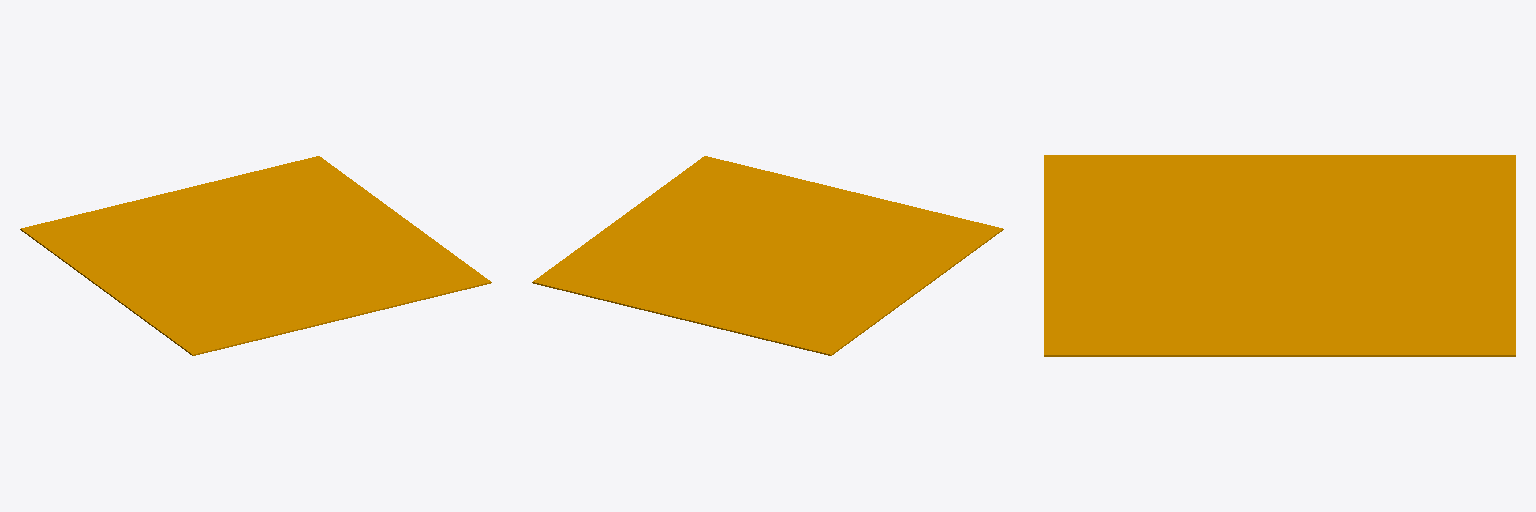
The robot description file, URDF, robot "bowl":
<?xml version="1.0" ?>
<robot name="bowl">
  <link name="bowl">
    <visual>
      <origin xyz="0 0 0"/>
      <geometry>
        <mesh filename="table.obj" scale="100 100 1"/>
      </geometry>
    </visual>
    <!-- <collision>
      <geometry>
        <mesh filename="table.obj"/>
      </geometry>
    </collision> -->
  </link>
</robot>
        

--- Facts derived from the render (not from the file) ---
Views: 3 orthographic renders of the robot side by side, from view 1: azimuth 30°, elevation 25°; view 2: azimuth 150°, elevation 25°; view 3: azimuth 270°, elevation 25°.
Robot: bowl — 1 links, 0 joints (none); root link bowl; default pose: all joints at 0.
Links seen in each view (by area): view 1: bowl; view 2: bowl; view 3: bowl.
Link boxes in pixels (box(x1,y1,x2,y2)): bowl: box(20, 156, 491, 355); bowl: box(532, 156, 1003, 355); bowl: box(1044, 155, 1515, 356).
Bounding box of the posed robot: 50 × 50 × 0.234 m (x, y, z).
Meshes: 1 distinct files referenced, 1 mesh visuals loaded (1 OBJ).
